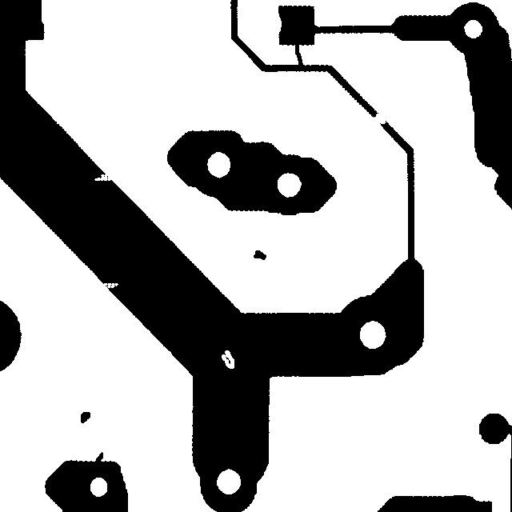copper: (246, 242, 274, 267), (73, 404, 98, 430)
mousebite: (86, 166, 119, 188), (90, 275, 126, 295)
open: (366, 106, 393, 131)
pin-hole: (214, 342, 242, 376)
short: (287, 35, 310, 74)
spur: (88, 444, 110, 470)
